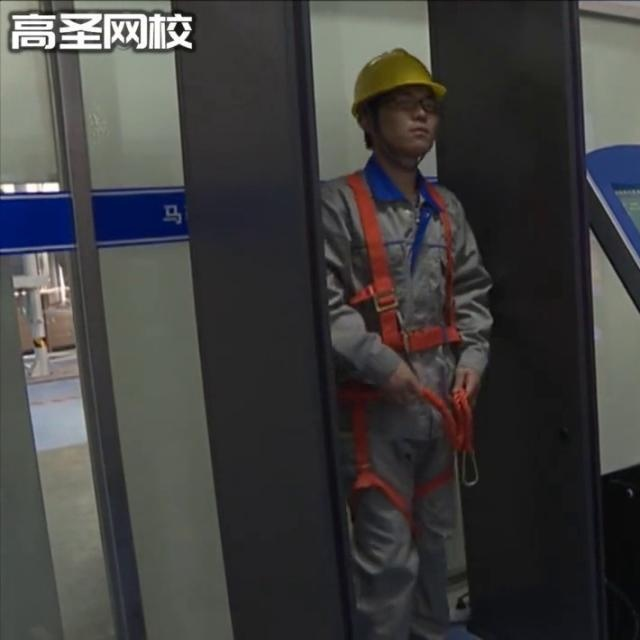Arnes_seguridad: (327, 162, 495, 408)
